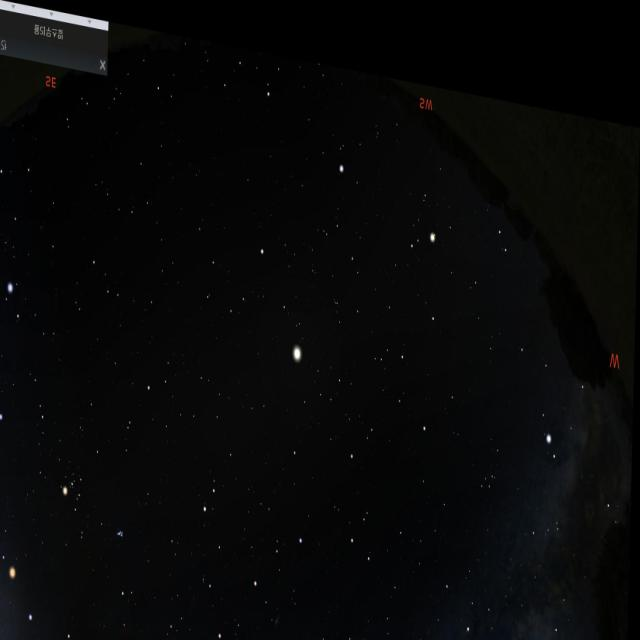cygnus: (444, 591, 558, 640)
moon: (0, 591, 10, 640)
pleiades: (114, 508, 132, 539)
taurus: (61, 430, 139, 560)
